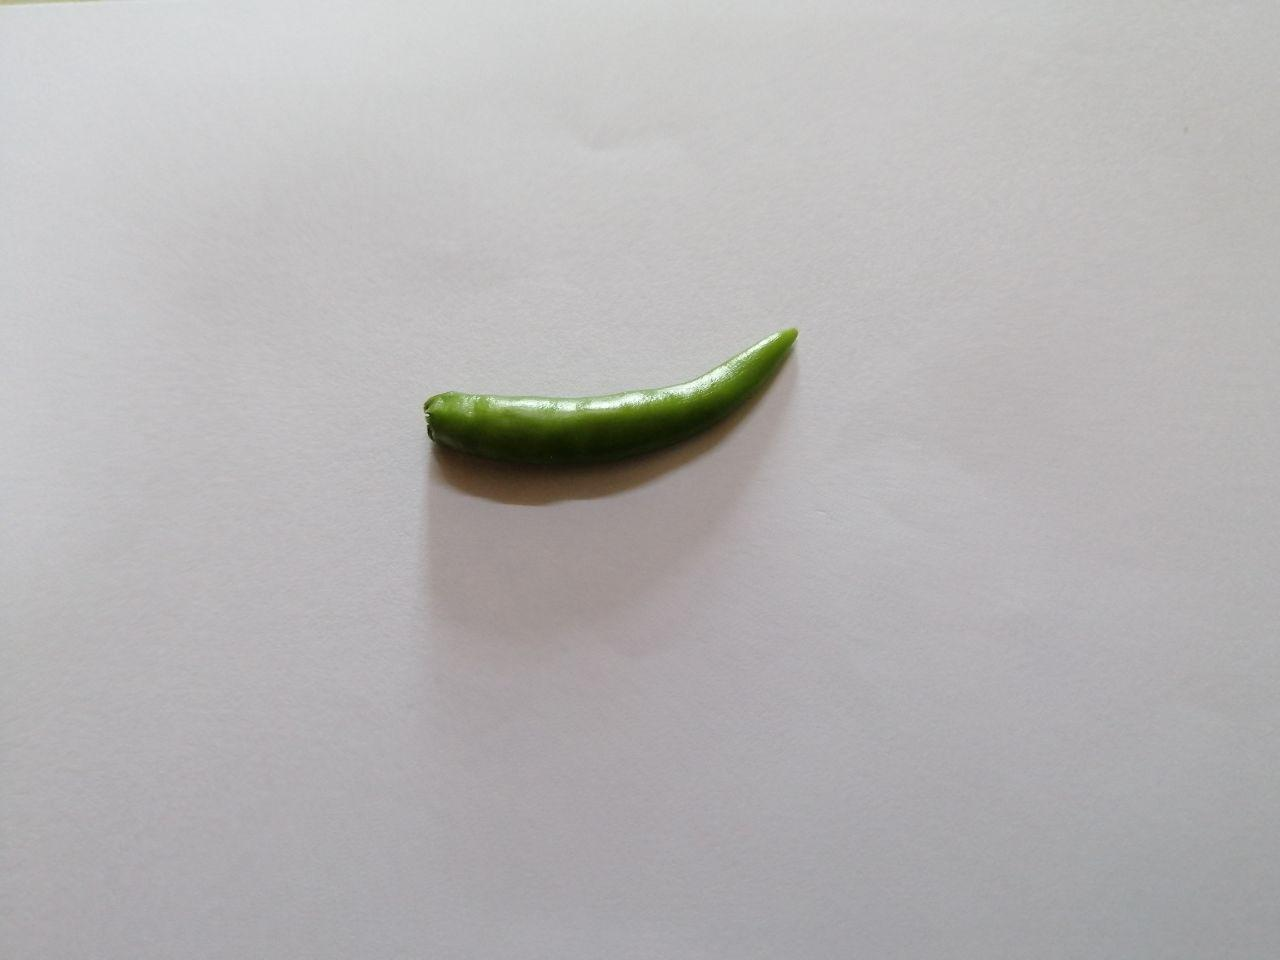lada hijau: (409, 321, 809, 493)
